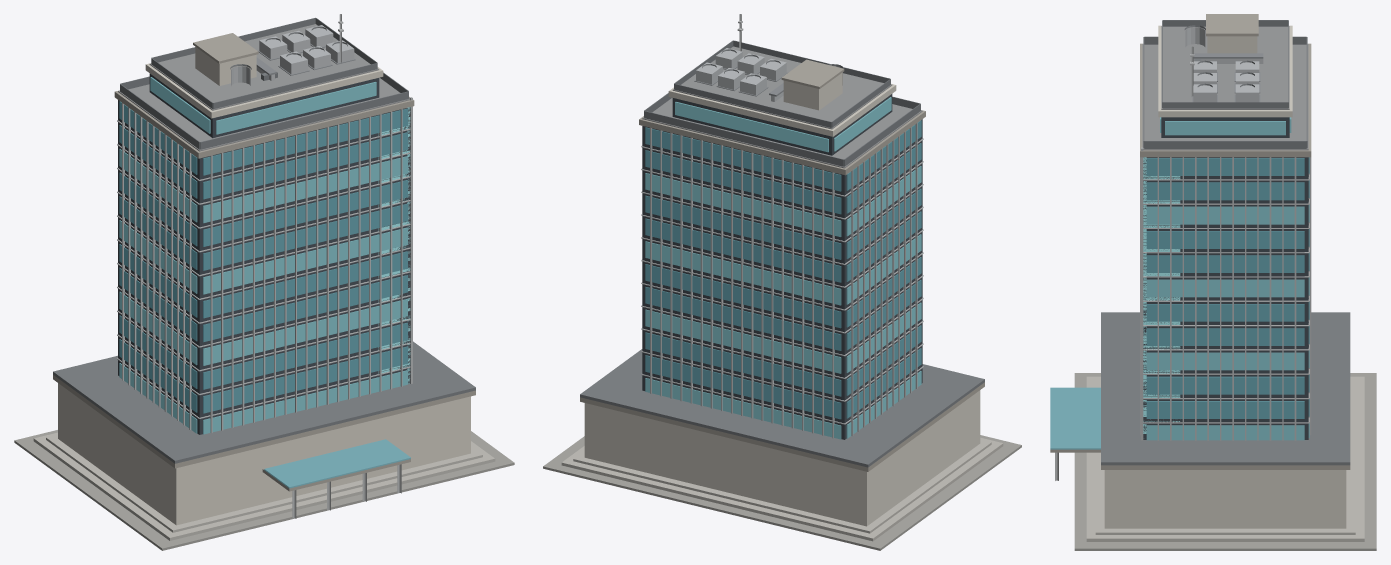
File: toa-nha-van-phong.glb
3 views of the same model, side by side, from view 1: azimuth 30°, elevation 25°; view 2: azimuth 150°, elevation 25°; view 3: azimuth 270°, elevation 25° (orthographic). The views are drawn at different scales.
Visible parts, largest first — view 1: toa_nha_van_phong; view 2: toa_nha_van_phong; view 3: toa_nha_van_phong.
Part boxes in pixels (left/top/right/bottom): toa_nha_van_phong: left=14, top=14, right=514, bottom=550; toa_nha_van_phong: left=543, top=14, right=1021, bottom=550; toa_nha_van_phong: left=1050, top=14, right=1376, bottom=550.
Size of the model in its own units: 55 by 65.15 by 43.2.
